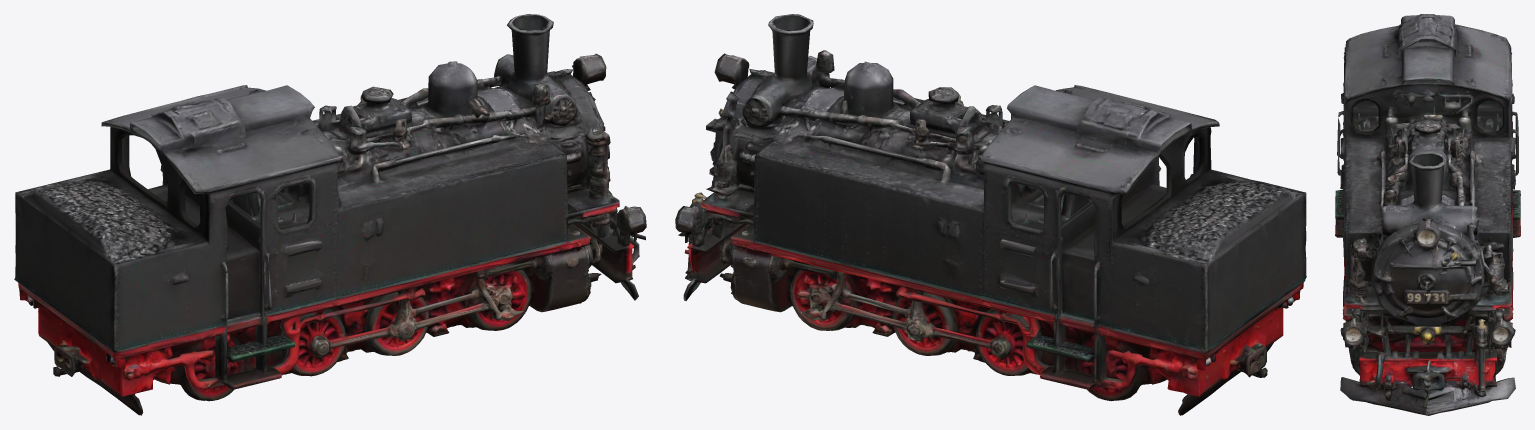
The model's file is zsb_lok.glb.
The picture shows the model from 3 angles, left to right: view 1: azimuth 30°, elevation 25°; view 2: azimuth 150°, elevation 25°; view 3: azimuth 270°, elevation 25°; orthographic projection. The views are drawn at different scales.
Visible parts, largest first — view 1: tripo_node_f7e169c1-54cc-4dc9-9917-28d84fcb28ee; view 2: tripo_node_f7e169c1-54cc-4dc9-9917-28d84fcb28ee; view 3: tripo_node_f7e169c1-54cc-4dc9-9917-28d84fcb28ee.
Part boxes in pixels (box(x1,y1,x2,y2)): tripo_node_f7e169c1-54cc-4dc9-9917-28d84fcb28ee: box(14, 14, 646, 415); tripo_node_f7e169c1-54cc-4dc9-9917-28d84fcb28ee: box(675, 14, 1306, 415); tripo_node_f7e169c1-54cc-4dc9-9917-28d84fcb28ee: box(1335, 14, 1520, 415).
Bounding box in the file's own units: 0.9805 × 0.4283 × 0.3201.
1 material, 1 textured.
